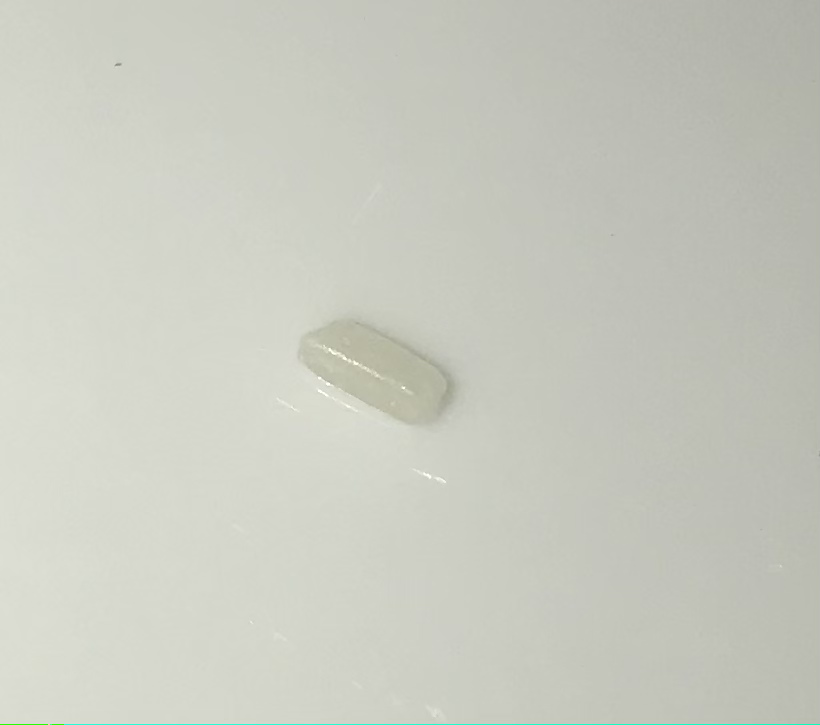Gao Tam: (296, 300, 454, 428)
